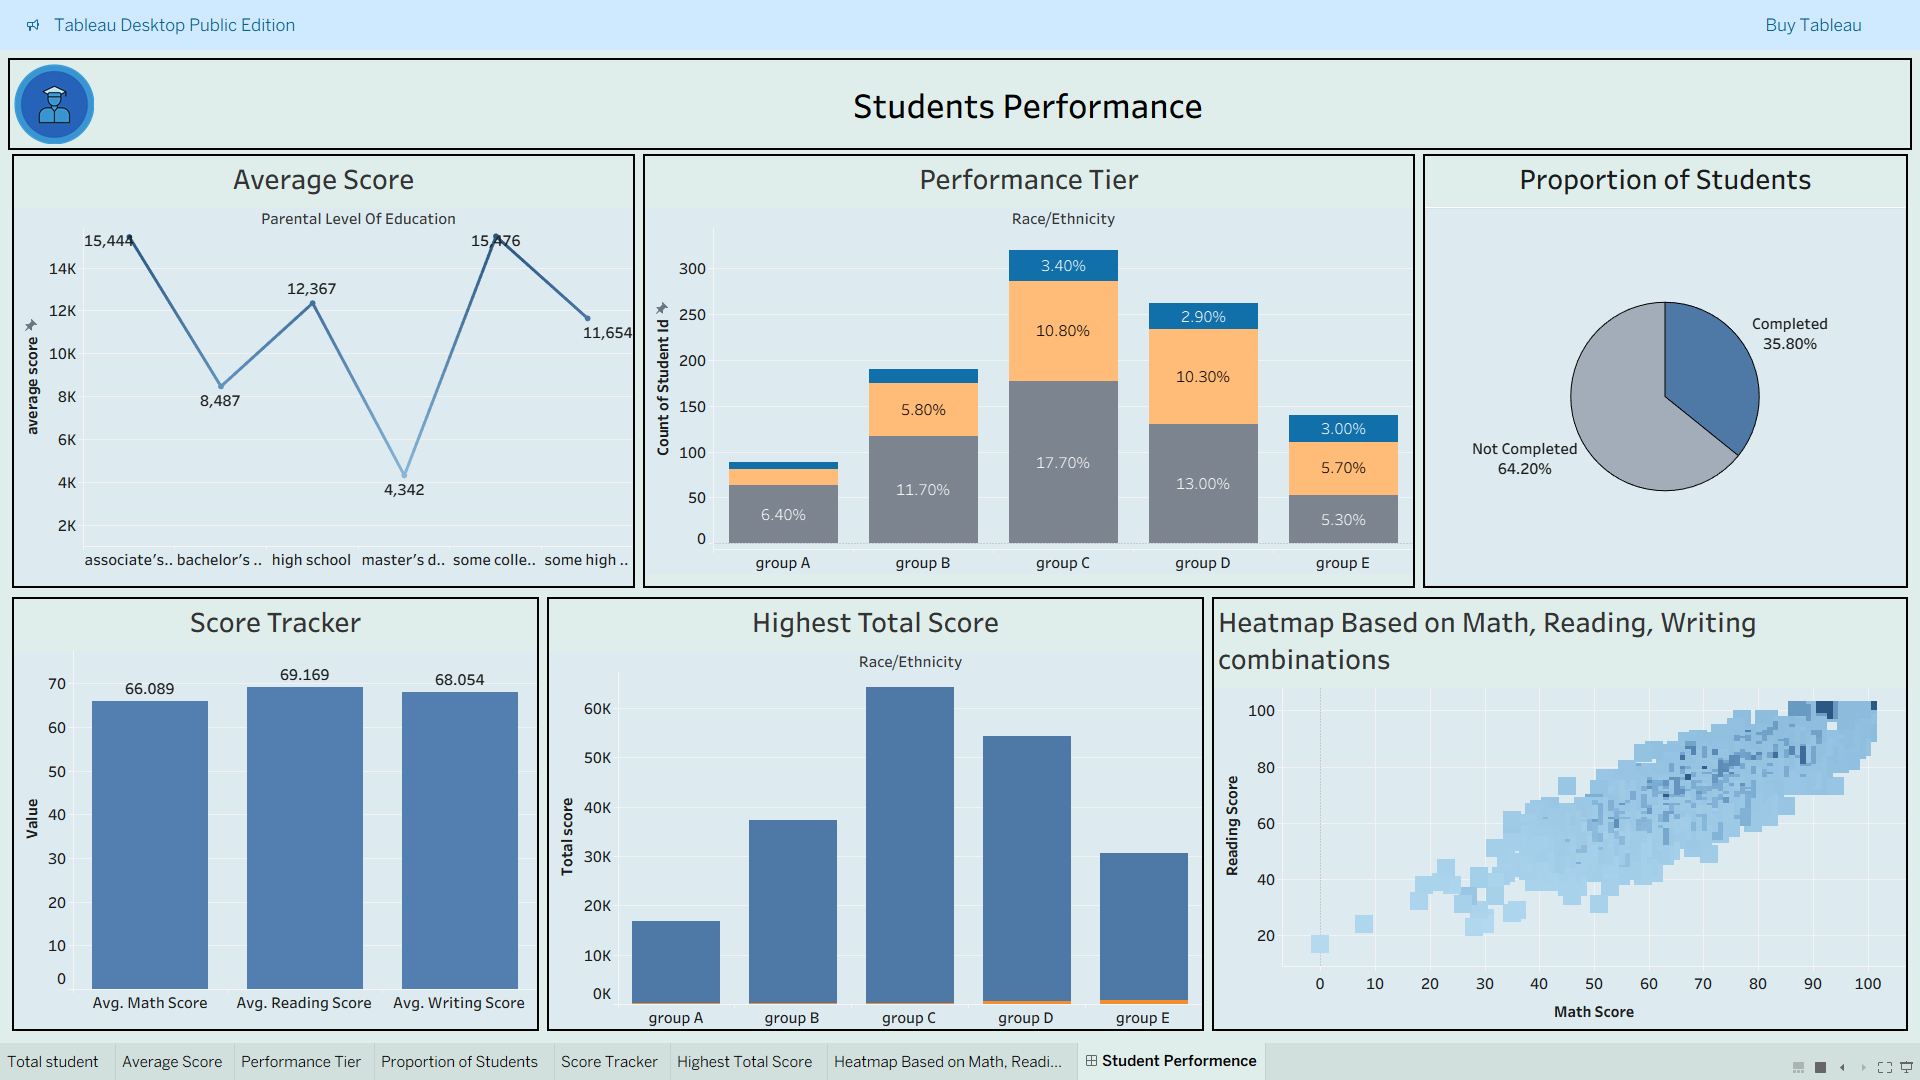

What the dashboard file says about the page in this screenshot:
{"tool":"tableau","page":{"name":"Student Performence","canvas":[1000,1000],"units":"permille","ordinal":0},"visuals":[{"type":"text","box":[4.8,9.3,990.3,85.9]},{"type":"worksheet","title":"Average score","mark":"Line","rows":["Calculation_1160239907395727360"],"cols":["parental level of education"],"box":[4.8,95.2,369.9,447.7]},{"type":"worksheet","title":"Performence Tier","mark":"Bar","rows":["Calculation_1160239907399581698"],"cols":["race/ethnicity"],"box":[374.7,95.2,363.9,447.7]},{"type":"worksheet","title":"Test Prep","mark":"Pie","box":[738.6,95.2,256.5,447.7]},{"type":"worksheet","title":"Score Tracker","mark":"Bar","box":[4.8,542.9,278.2,447.8]},{"type":"worksheet","title":"Highest total score","mark":"Bar","rows":["Calculation_1160239907413839877"],"cols":["race/ethnicity"],"box":[283,542.9,345.8,447.8]},{"type":"worksheet","title":"Heatmap Based on Math, Reading, Writing combinations","mark":"Square","rows":["reading score"],"cols":["math score"],"box":[628.8,542.9,366.4,447.8]}]}

Visuals, with their boxes on the dashboard's canvas, which has no fixed pixel size, in thousandths of its width and height (x1, y1, x2, y2). These are canvas units, not pixel positions in the 1920x1080 screenshot, which may show the page scaled, cropped or inside an application window:
text: (x1=5, y1=9, x2=995, y2=95)
"Average score" worksheet (Line marks): (x1=5, y1=95, x2=375, y2=543)
"Performence Tier" worksheet (Bar marks): (x1=375, y1=95, x2=739, y2=543)
"Test Prep" worksheet (Pie marks): (x1=739, y1=95, x2=995, y2=543)
"Score Tracker" worksheet (Bar marks): (x1=5, y1=543, x2=283, y2=991)
"Highest total score" worksheet (Bar marks): (x1=283, y1=543, x2=629, y2=991)
"Heatmap Based on Math, Reading, Writing combinations" worksheet (Square marks): (x1=629, y1=543, x2=995, y2=991)
